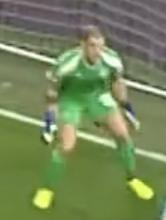goalkeeper: (24, 17, 166, 220)
